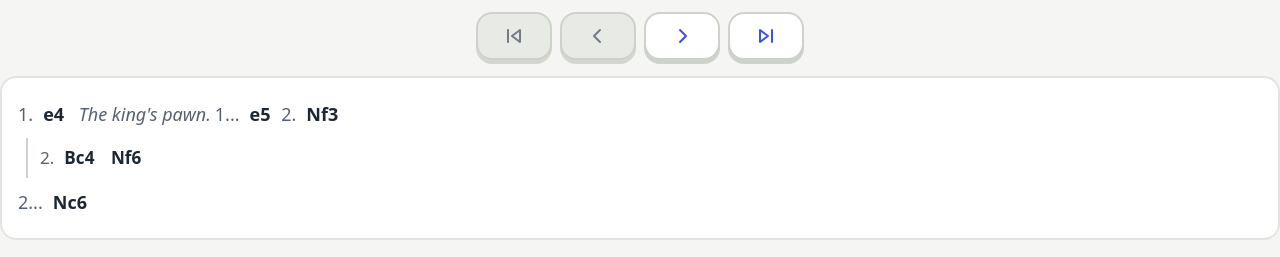
Test: ContinuationViewer › follows a variation
Click the button with aria-label "2... Nf6". click: (126, 158)
box: [105,138,147,178]
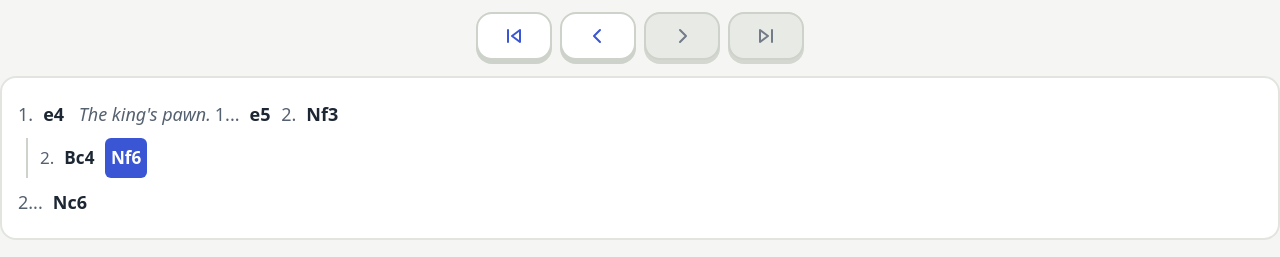
expect the button with aria-label "2... Nf6" is marked as current: met, box [105,138,147,178]
